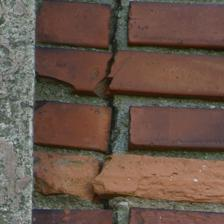Crack: (47, 3, 84, 202)
